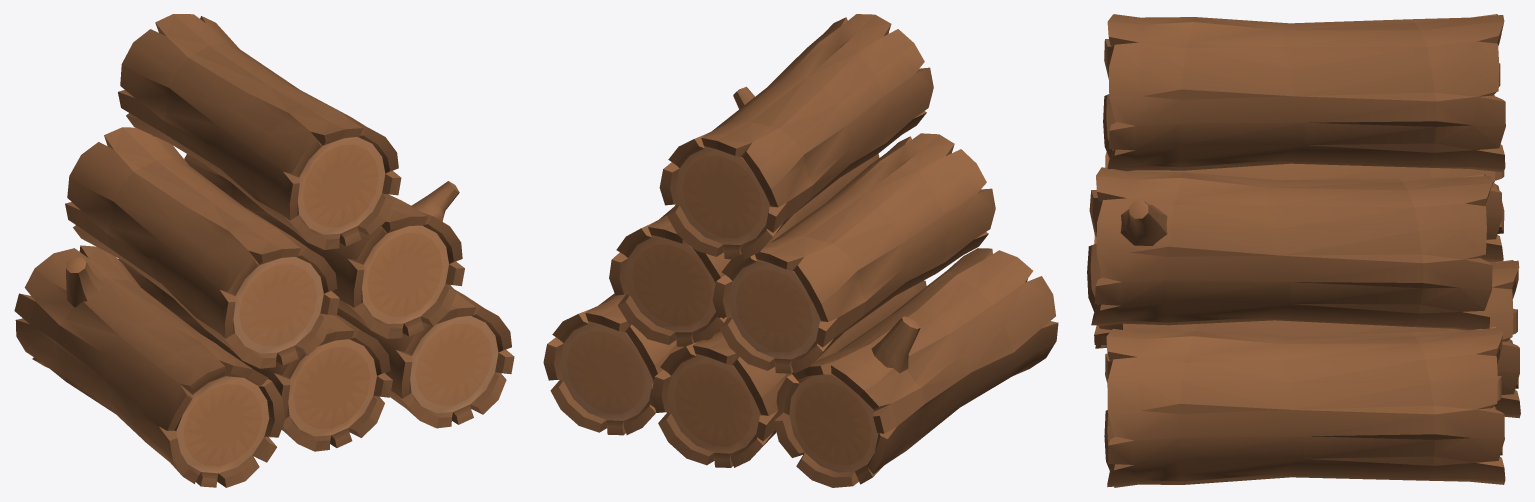
The model's file is kaykit_resource_wood_log_stack.glb.
3 renders of one model, left to right at view 1: azimuth 30°, elevation 25°; view 2: azimuth 150°, elevation 25°; view 3: azimuth 270°, elevation 25°, orthographic. The views are drawn at different scales.
Visible parts, largest first — view 1: wood; view 2: wood; view 3: wood.
Boxes of the visible parts, x1,y1,x2,y2 form: wood: (14,14,514,487); wood: (543,14,1058,487); wood: (1087,14,1520,487).
Bounding box in the file's own units: 1.68 × 1.5 × 1.5.
